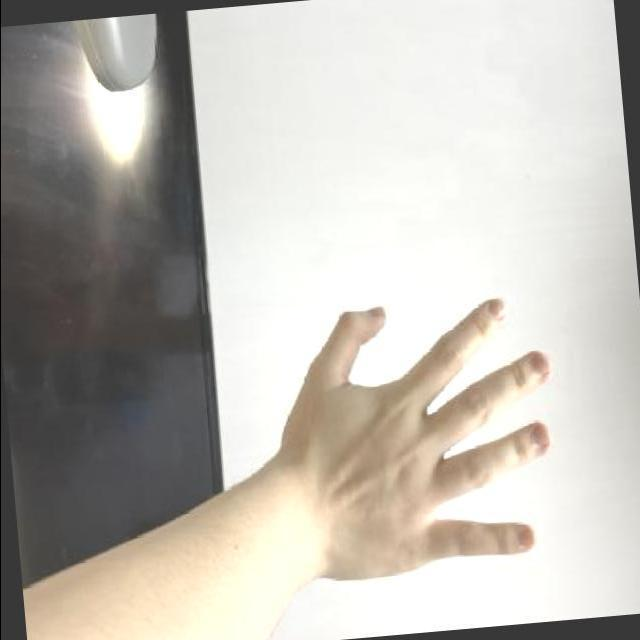hand: (234, 272, 588, 613)
